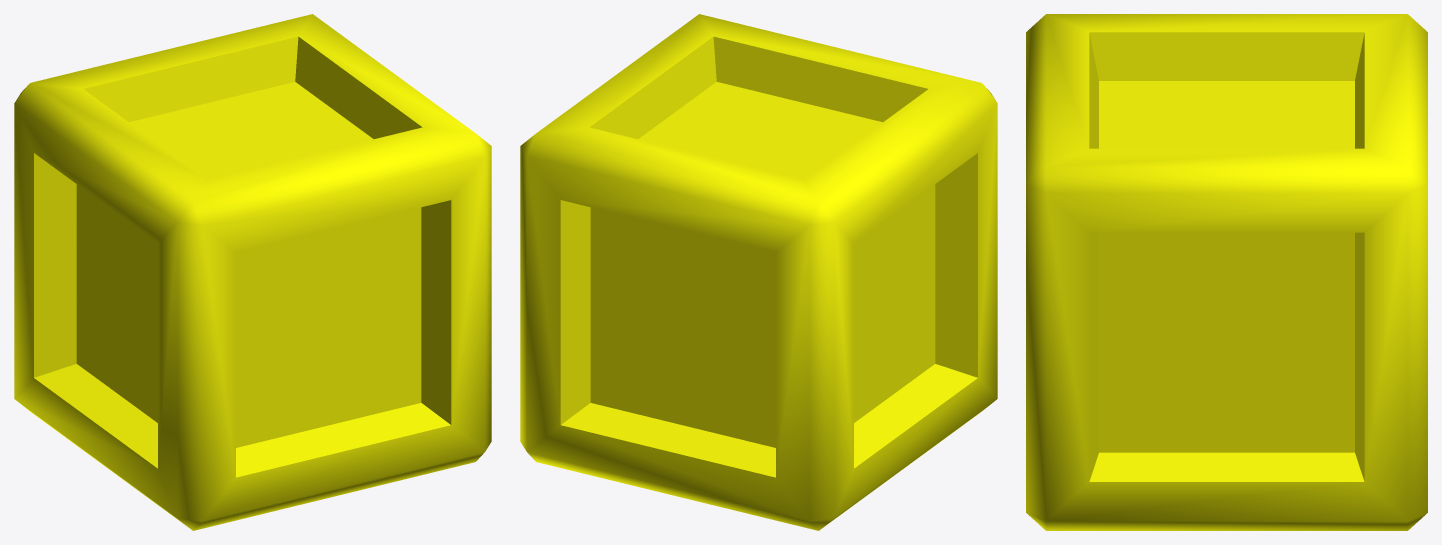
The model's file is kaykit-box-large.glb.
The picture shows the model from 3 angles, left to right: view 1: azimuth 30°, elevation 25°; view 2: azimuth 150°, elevation 25°; view 3: azimuth 270°, elevation 25°; orthographic projection. The views are drawn at different scales.
Parts seen in each view (by area): view 1: box_large; view 2: box_large; view 3: box_large.
Boxes of the visible parts, x1=… form: box_large: x1=14, y1=14, x2=491, y2=530; box_large: x1=520, y1=14, x2=997, y2=530; box_large: x1=1026, y1=14, x2=1427, y2=530.
Bounding box in the file's own units: 1.5 × 1.5 × 1.5.
